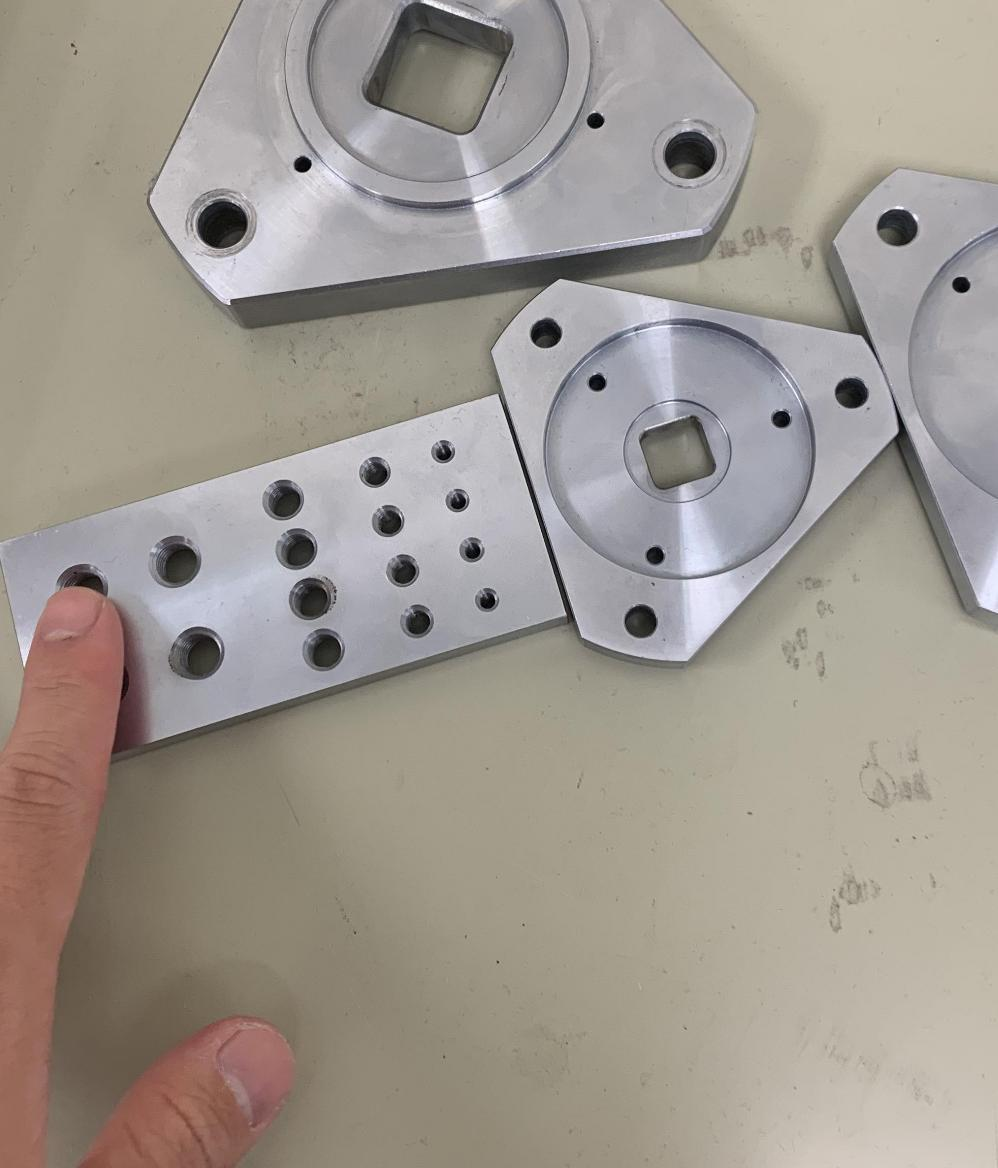hole: (646, 102, 730, 194), (178, 184, 276, 260), (158, 619, 234, 693), (140, 517, 210, 593), (293, 624, 351, 682), (264, 529, 324, 575), (825, 369, 879, 420), (872, 204, 924, 256), (261, 472, 311, 526), (615, 594, 665, 646), (282, 578, 336, 620), (524, 312, 570, 356), (391, 598, 439, 640), (362, 500, 410, 540), (352, 451, 396, 490), (379, 551, 423, 587), (455, 533, 487, 569), (428, 432, 456, 472), (440, 485, 472, 517), (766, 400, 792, 439), (472, 586, 502, 618), (639, 536, 669, 568), (948, 268, 976, 302), (581, 368, 609, 396)
